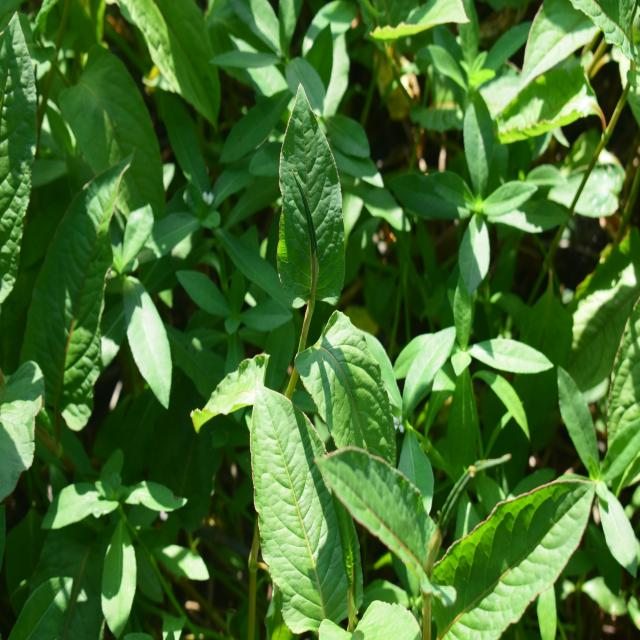Chinese_knotweed: (252, 92, 405, 506), (311, 421, 567, 630)
